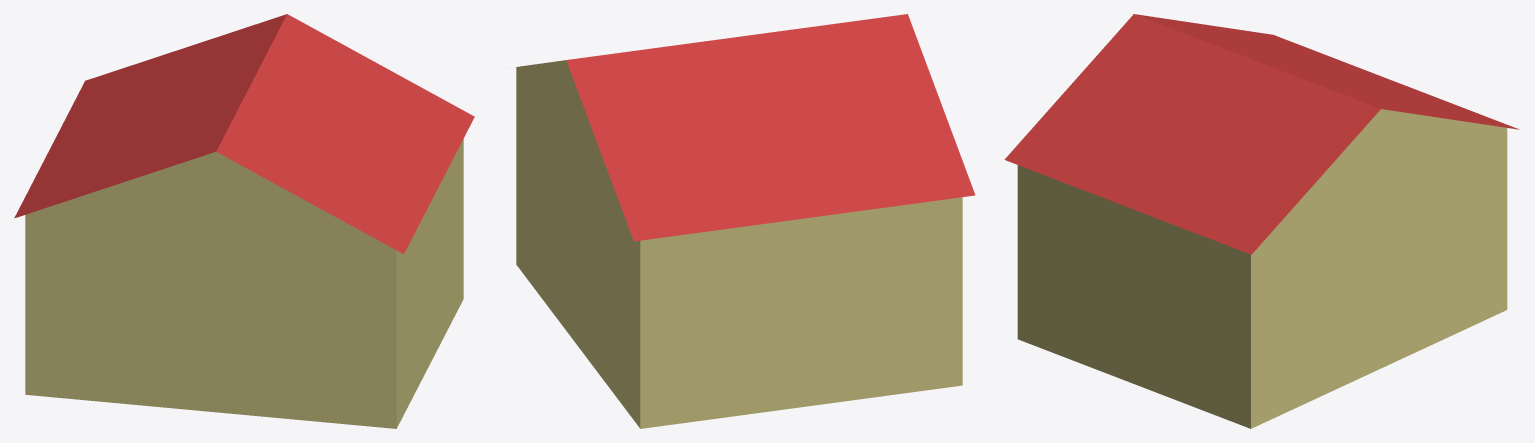
3 renders of one model, left to right at view 1: azimuth 30°, elevation 25°; view 2: azimuth 150°, elevation 25°; view 3: azimuth 270°, elevation 25°, orthographic. The views are drawn at different scales.
Bounding box in the file's own units: 13.71 × 13.59 × 7.71.
